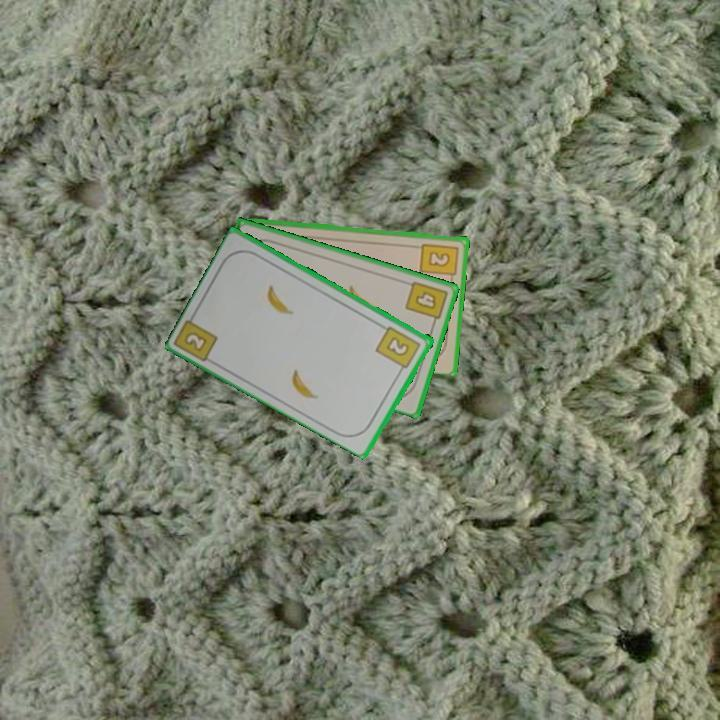2b: (373, 323, 424, 376), (417, 239, 461, 284), (181, 328, 210, 355)
4b: (402, 277, 450, 329)
